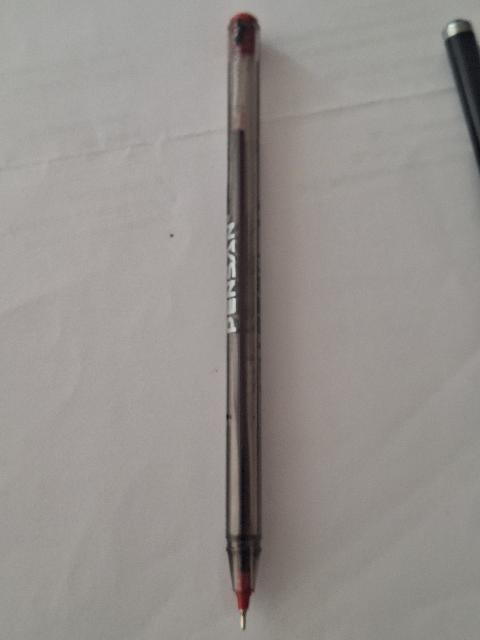writing_tool: (223, 10, 265, 626)
